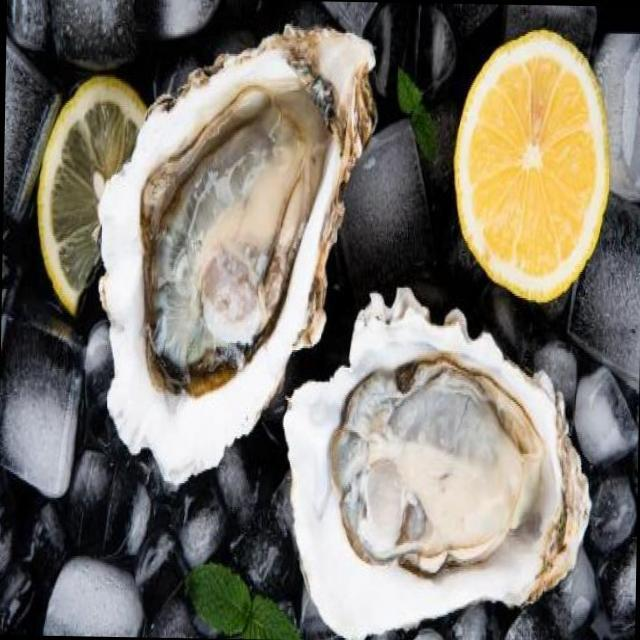Oyster-Open: (86, 13, 383, 492), (274, 287, 597, 640)
